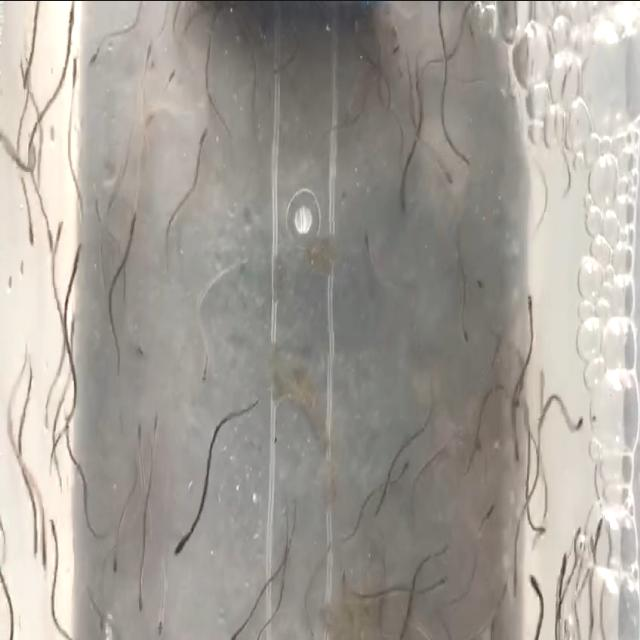active_glass_eel: (126, 564, 154, 634), (179, 120, 213, 174), (162, 518, 195, 572), (62, 239, 90, 301), (151, 384, 175, 448), (388, 454, 415, 509), (155, 584, 182, 638), (388, 172, 416, 218), (122, 188, 144, 245), (126, 328, 152, 376), (62, 60, 84, 114), (86, 24, 108, 74), (46, 212, 68, 258), (568, 400, 594, 438), (356, 220, 378, 262), (47, 513, 67, 559), (558, 536, 576, 587), (106, 534, 124, 584), (434, 157, 458, 193), (518, 285, 540, 324), (431, 518, 452, 558), (527, 568, 547, 610), (480, 494, 504, 528), (473, 255, 493, 295), (496, 568, 513, 614), (429, 558, 452, 590), (142, 39, 158, 85), (588, 518, 608, 552), (130, 418, 146, 460), (21, 214, 41, 247), (336, 561, 356, 593), (63, 0, 81, 35), (198, 351, 215, 383), (60, 418, 76, 450), (505, 434, 522, 464), (164, 52, 177, 90), (36, 536, 50, 571), (456, 325, 471, 357), (91, 202, 110, 226), (228, 619, 243, 640)
